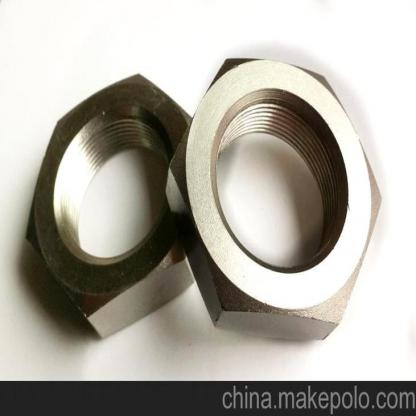FOD: (164, 51, 382, 341), (24, 69, 225, 343)
